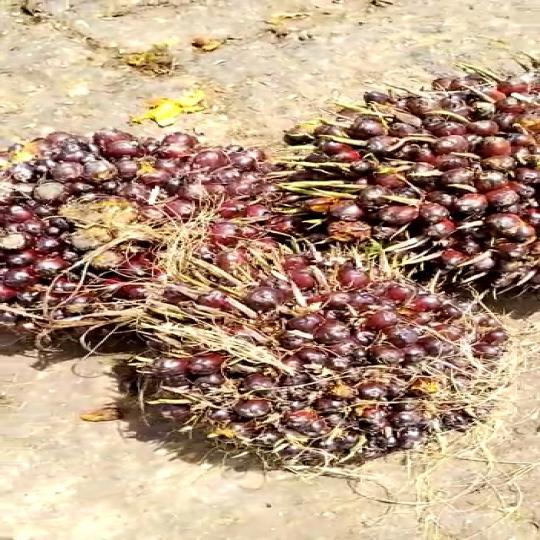kurang masak: (115, 231, 504, 471), (0, 122, 291, 364), (265, 54, 540, 290)
